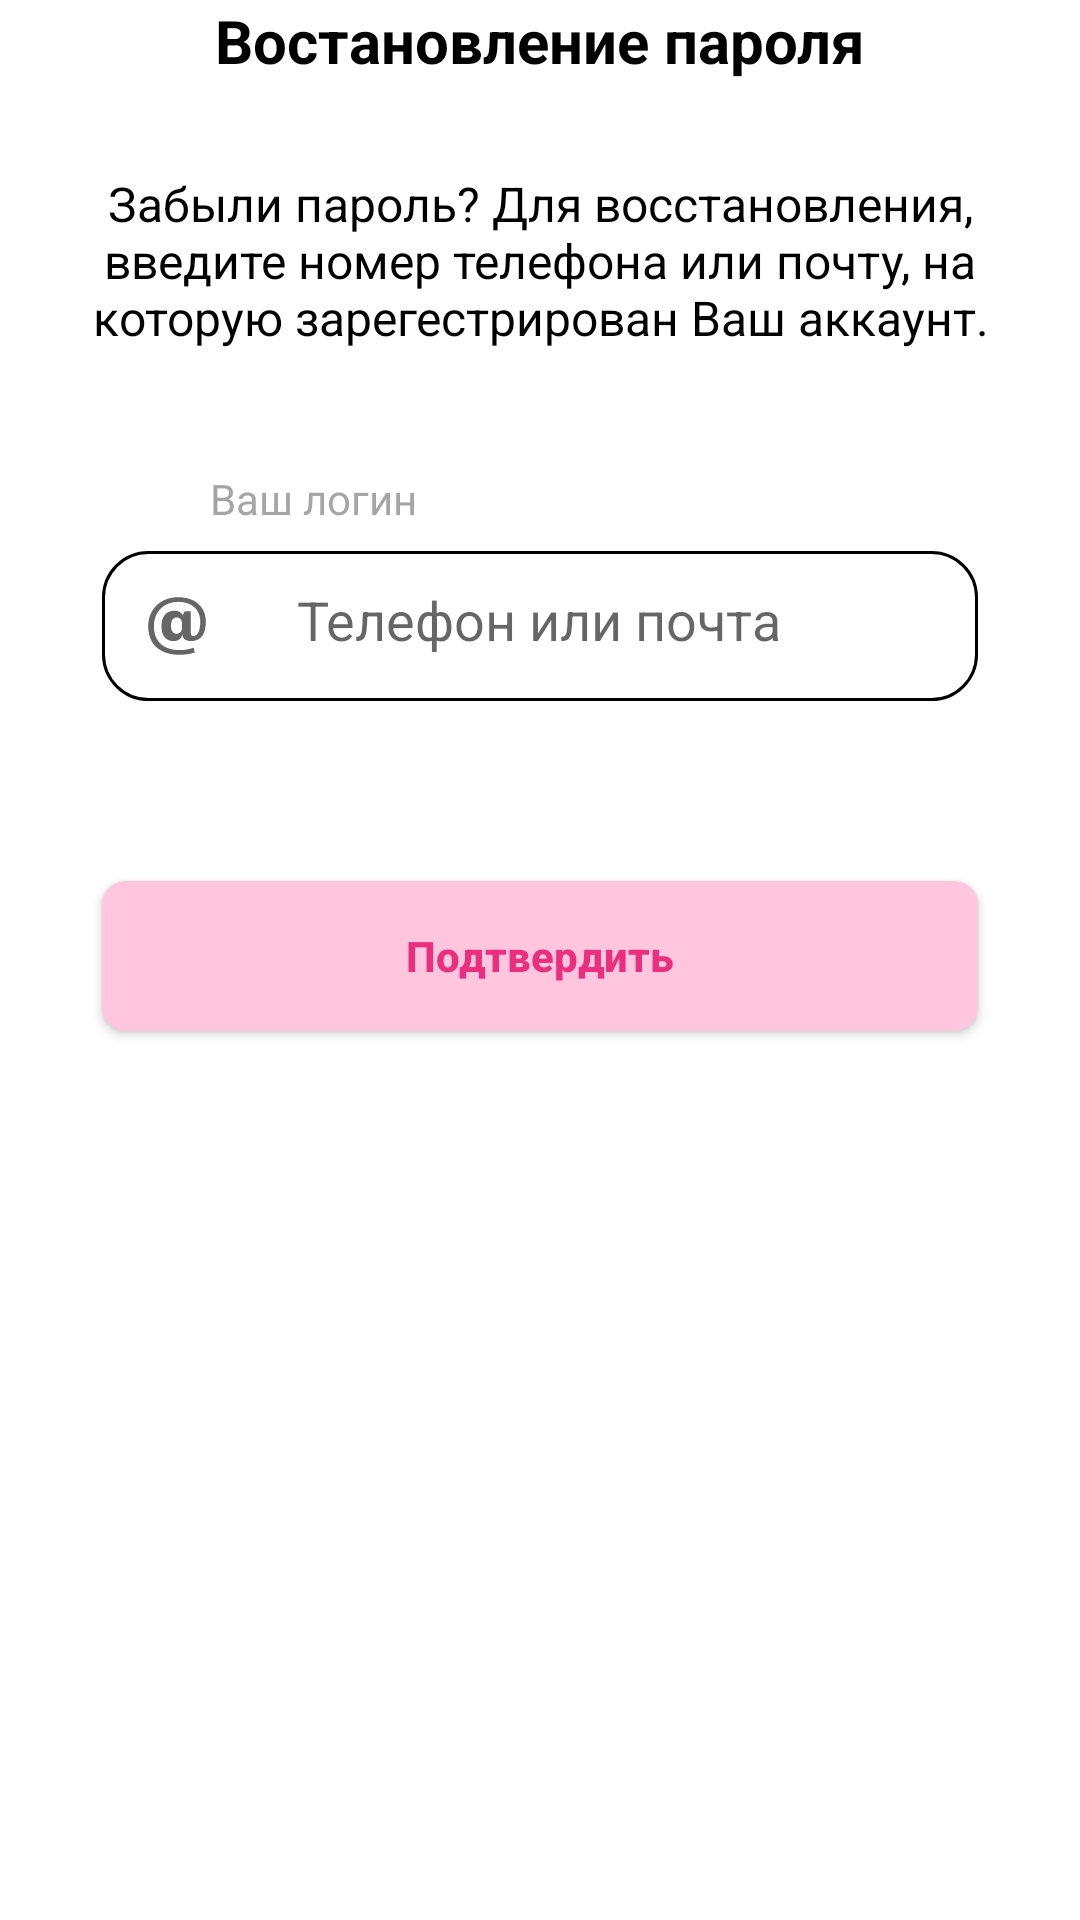

Icons on this 1080*1920 Android screen, each with the point to tap as [x,y]:
email: [177,626]
